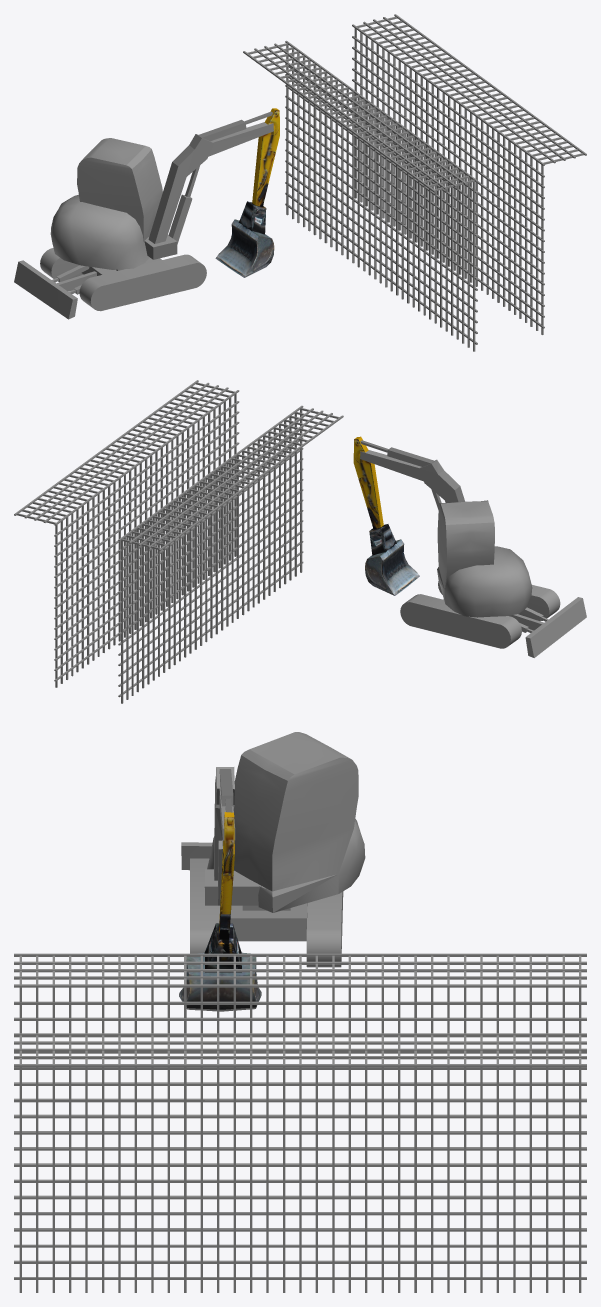
3 renders of one model, top to bottom at view 1: azimuth 30°, elevation 25°; view 2: azimuth 150°, elevation 25°; view 3: azimuth 270°, elevation 25°, orthographic. The views are drawn at different scales.
Parts seen in each view (by area): view 1: GJ, GJ_2, WJJ, Object003, WJJ02, WJJ01; view 2: GJ, GJ_2, WJJ, Object003, WJJ02, WJJ01; view 3: GJ_2, GJ, WJJ, WJJ02, Object003, WJJ01.
Boxes of the visible parts, box(x1,y1,x2,y2) form: GJ: box(243, 40, 477, 351); GJ_2: box(352, 14, 586, 334); WJJ: box(14, 138, 206, 319); Object003: box(148, 111, 273, 244); WJJ02: box(215, 201, 274, 277); WJJ01: box(252, 108, 279, 206); GJ: box(118, 405, 343, 703); GJ_2: box(14, 380, 239, 687); WJJ: box(400, 500, 586, 657); Object003: box(360, 440, 464, 509); WJJ02: box(365, 524, 419, 595); WJJ01: box(353, 436, 383, 529); GJ_2: box(14, 1033, 586, 1292); GJ: box(14, 953, 586, 1228); WJJ: box(181, 732, 365, 967); WJJ02: box(179, 923, 261, 1011); Object003: box(214, 767, 235, 905); WJJ01: box(219, 812, 234, 939).
Size of the model in its own units: 885 by 408 by 634.
Materials: 18 (4 with a texture image).
